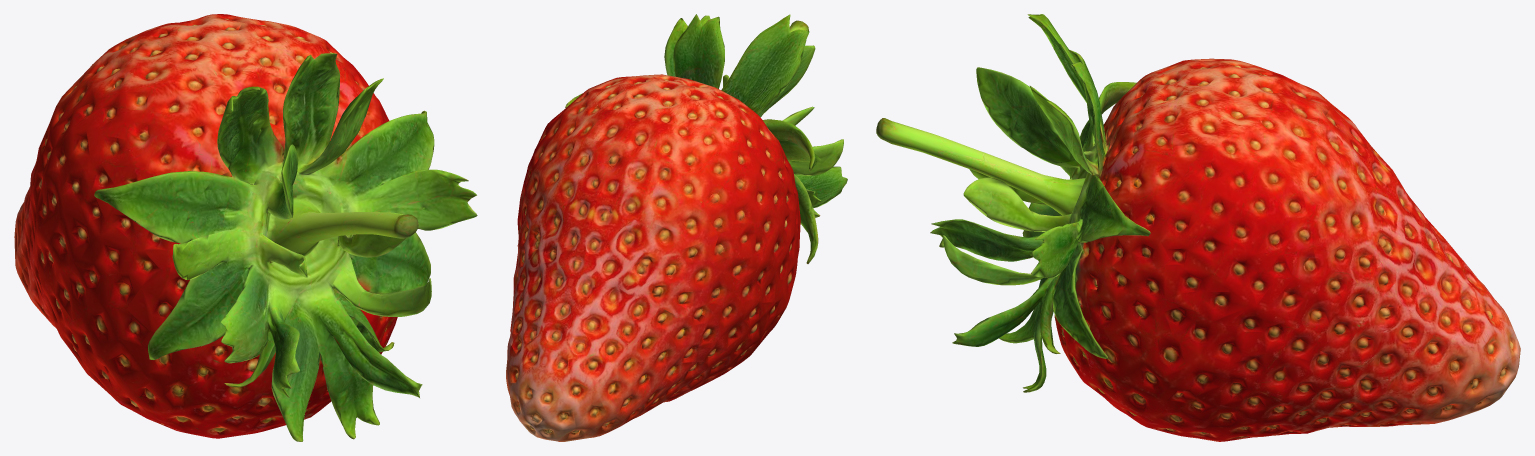
File: strawberry_whole.glb
The picture shows the model from 3 angles, left to right: view 1: azimuth 30°, elevation 25°; view 2: azimuth 150°, elevation 25°; view 3: azimuth 270°, elevation 25°; orthographic projection. The views are drawn at different scales.
Bounding box in the file's own units: 1 × 1.23 × 1.9.
1 material, 1 textured.
